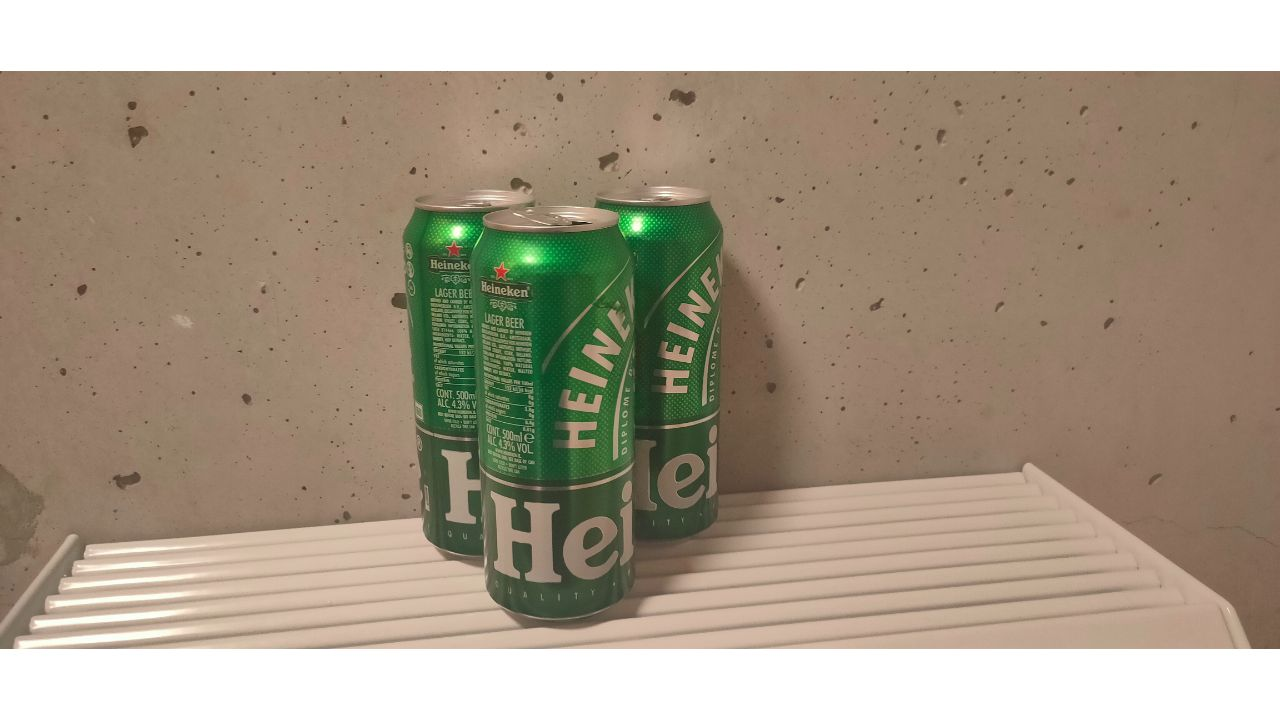Can: (468, 204, 636, 624), (402, 191, 537, 560), (595, 187, 719, 542)
